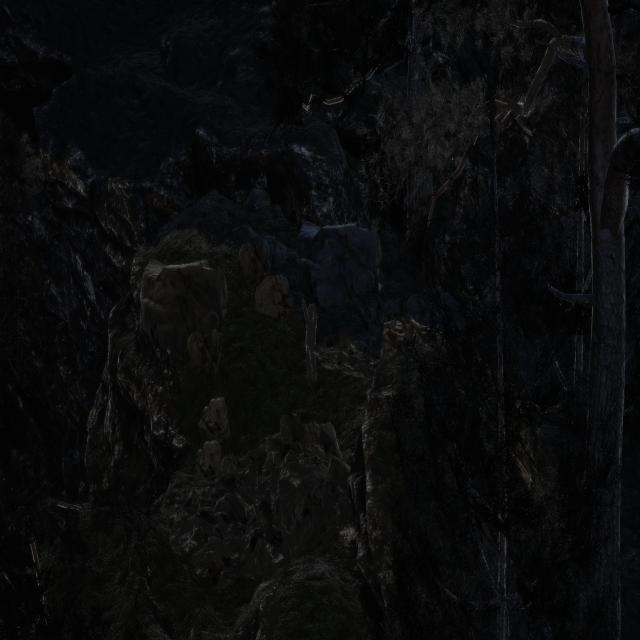Human: (291, 281, 328, 399)
